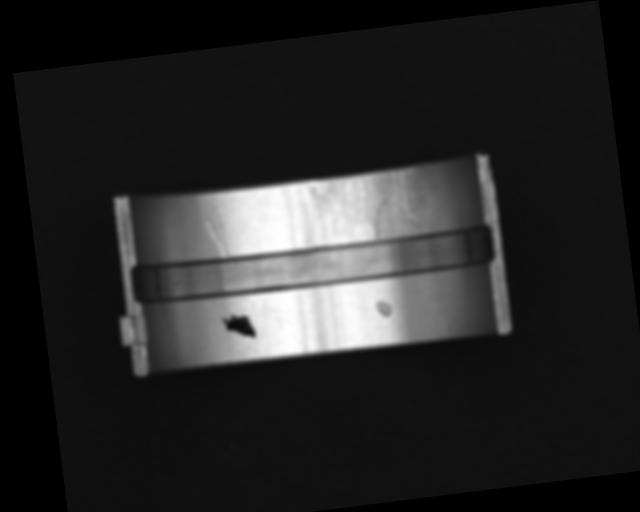blot: (221, 310, 257, 341)
bruise: (374, 299, 394, 319)
gap: (127, 222, 497, 310)
nick: (205, 210, 230, 259)
scratch: (307, 164, 434, 247)
